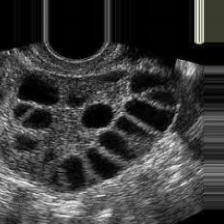pcos: (2, 65, 184, 197)
